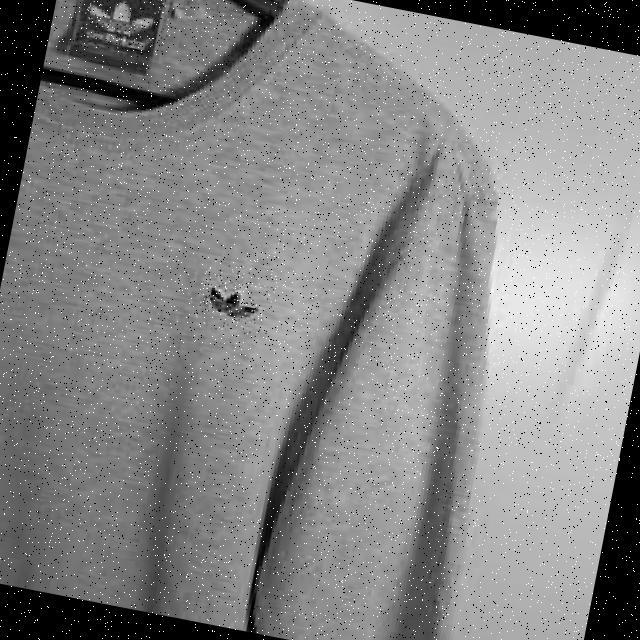Adidas: (192, 257, 283, 340), (76, 0, 175, 57)
